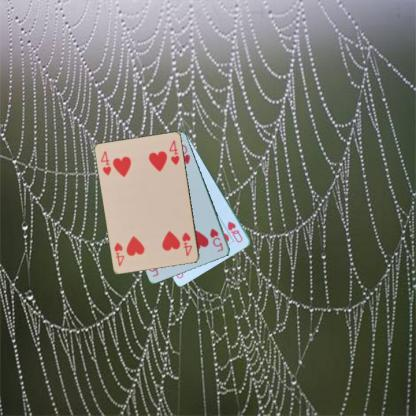4h: (98, 148, 113, 177), (180, 230, 194, 258)
5h: (207, 226, 225, 253)
Qh: (225, 218, 244, 244)
